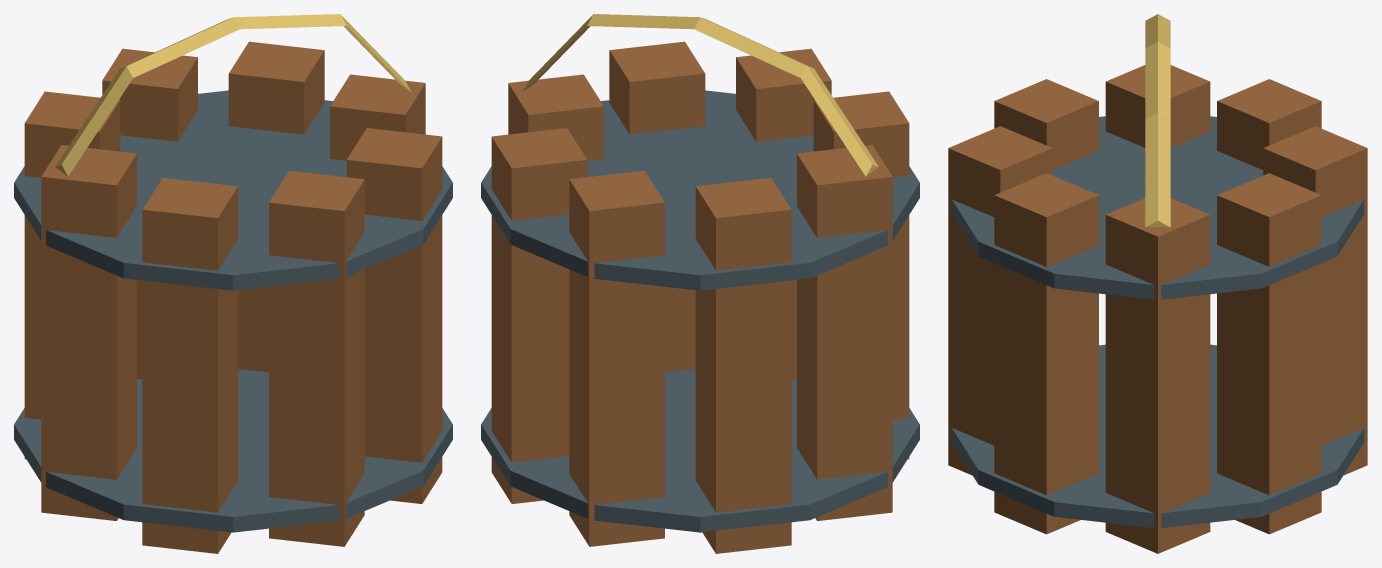
File: bucket.glb
3 views of the same model, side by side, from view 1: azimuth 30°, elevation 25°; view 2: azimuth 150°, elevation 25°; view 3: azimuth 270°, elevation 25° (orthographic). The views are drawn at different scales.
Visible parts, largest first — view 1: bucket.001; view 2: bucket.001; view 3: bucket.001.
Part boxes in pixels (<box>): bucket.001: <box>14,14,452,553</box>; bucket.001: <box>481,14,919,553</box>; bucket.001: <box>948,14,1367,553</box>.
Bounding box in the file's own units: 0.3051 × 0.34 × 0.3051.
